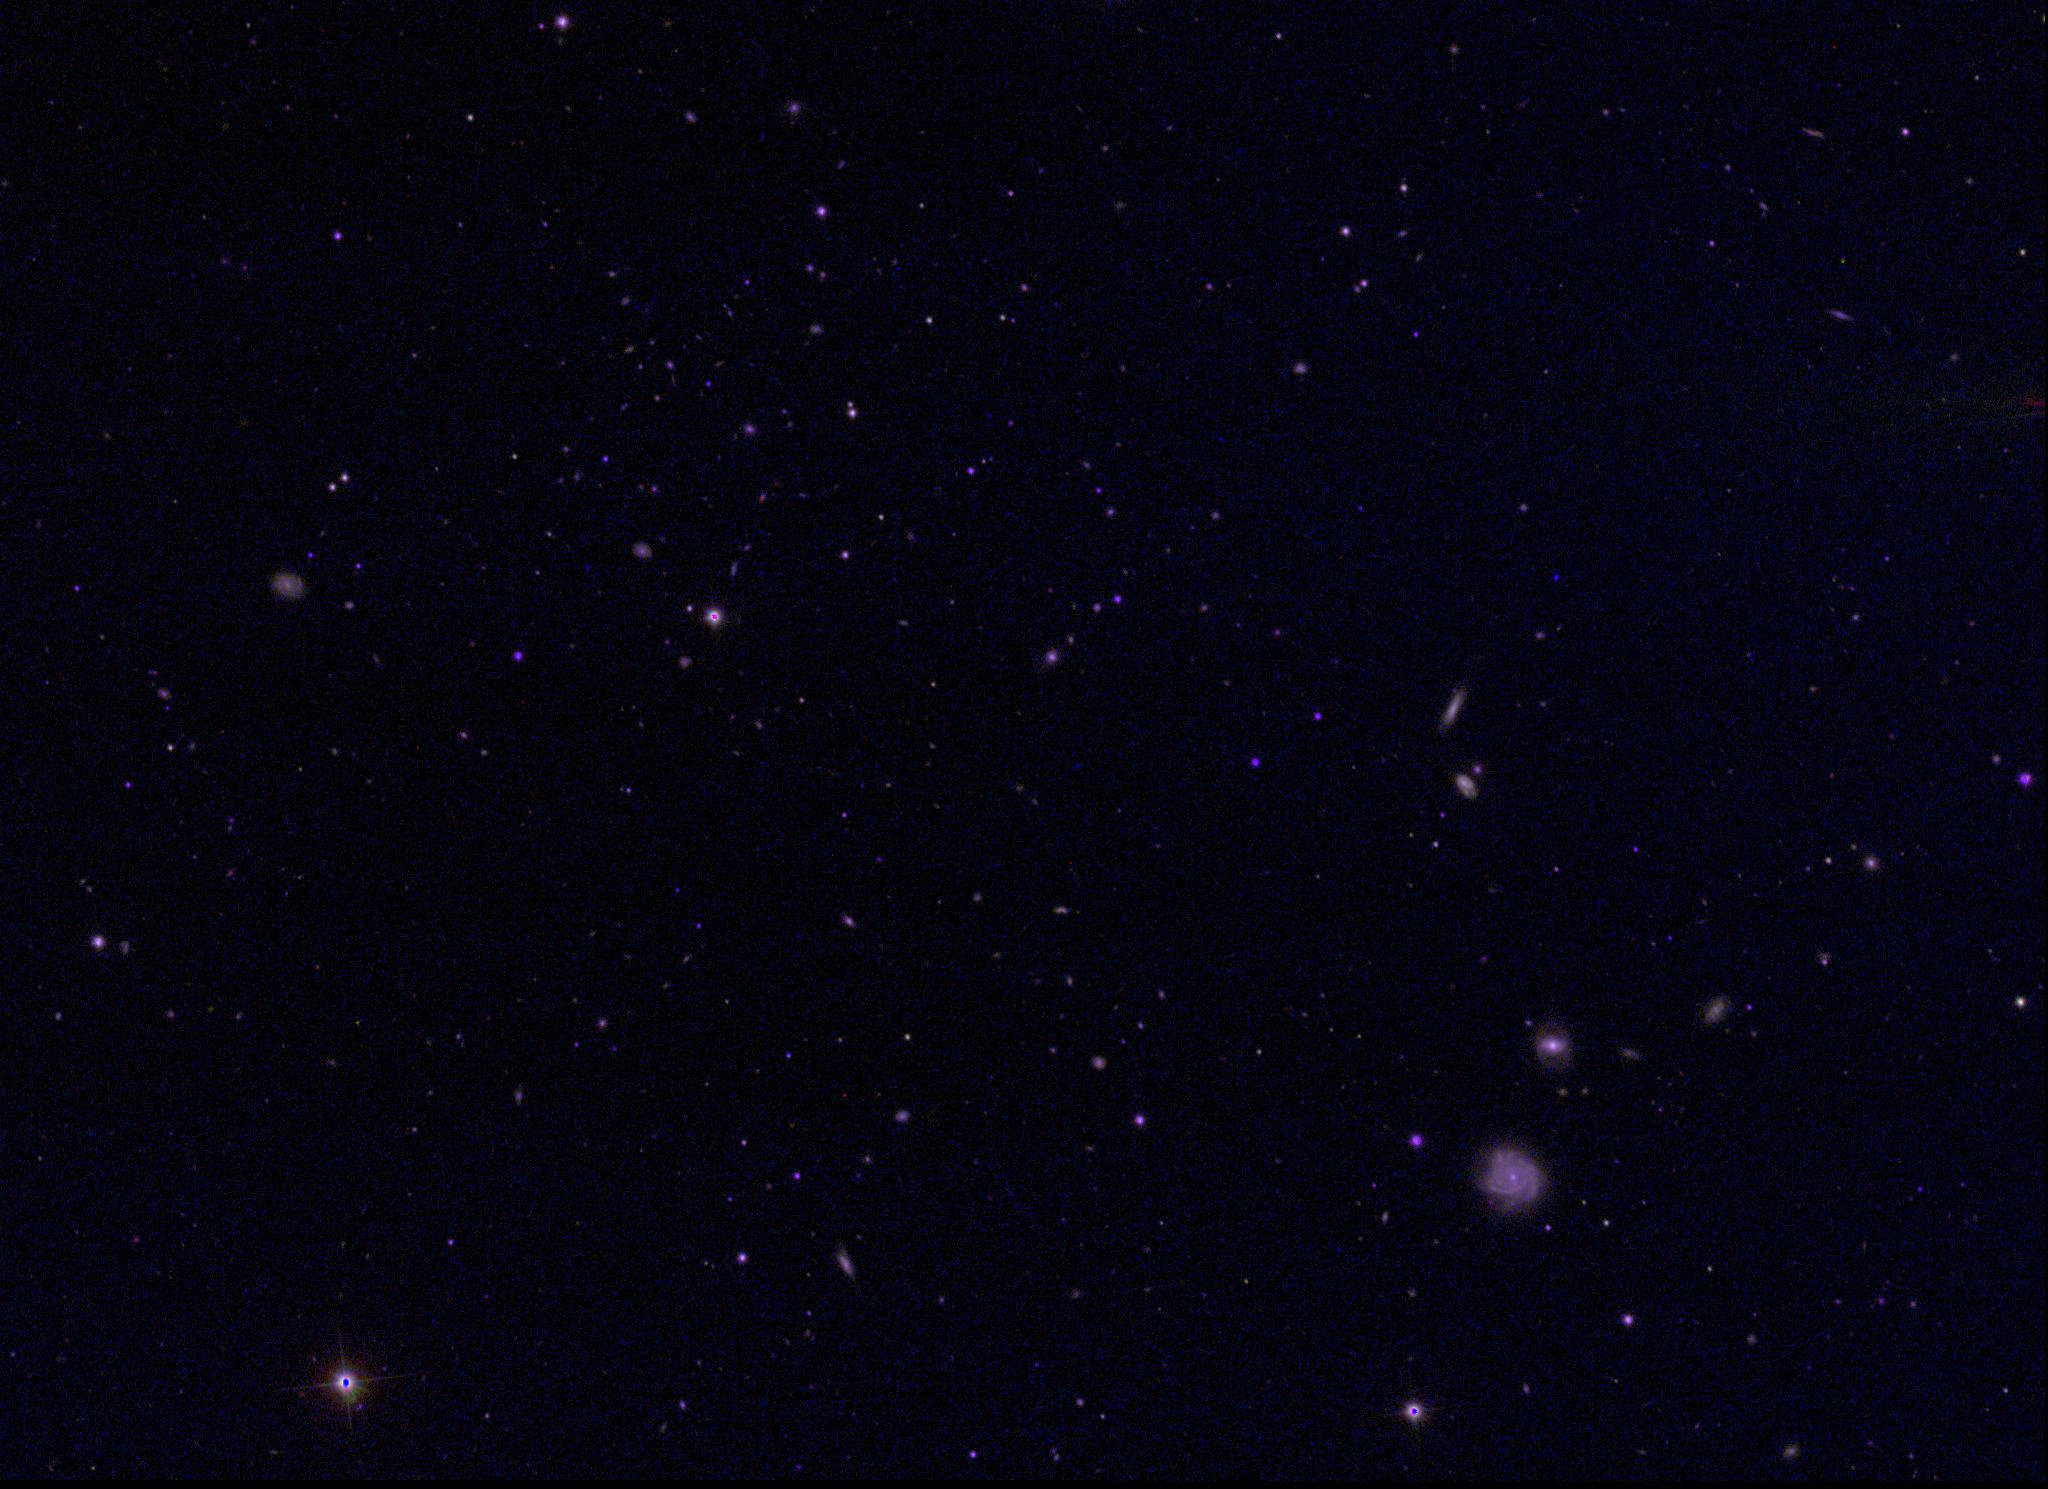L: (1547, 574, 1561, 589)
